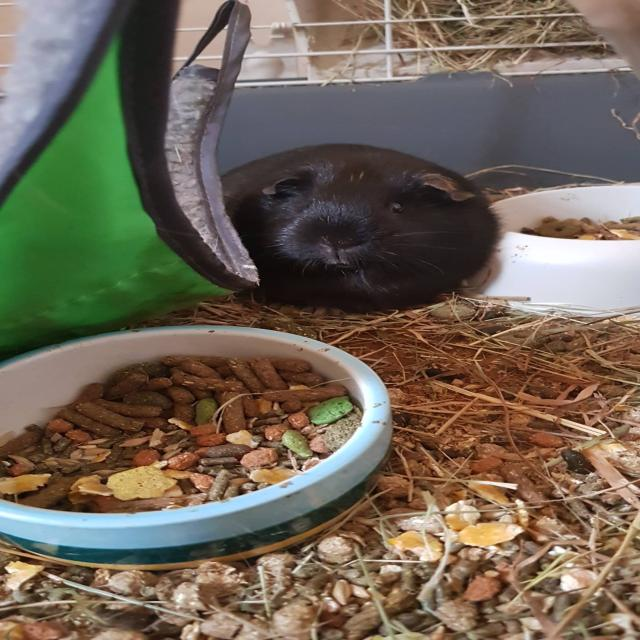guinea pig: (216, 142, 498, 315)
